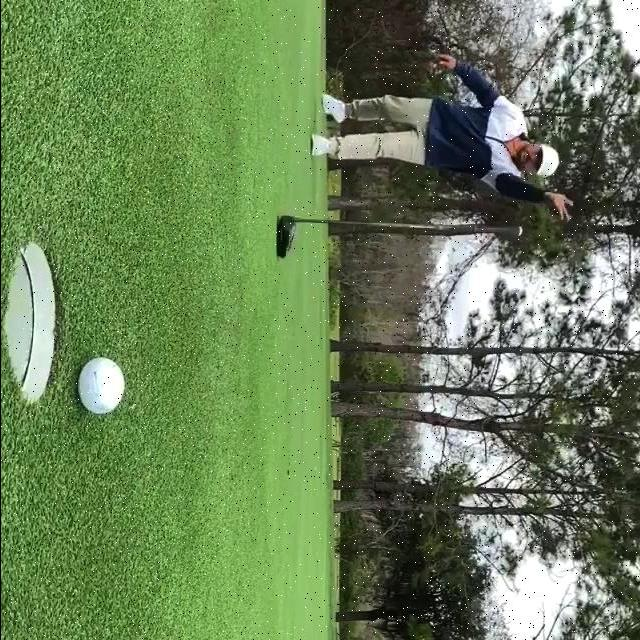golf ball: (77, 358, 123, 414)
golf club-handle: (275, 215, 522, 260)
golf club-head: (276, 215, 296, 259)
